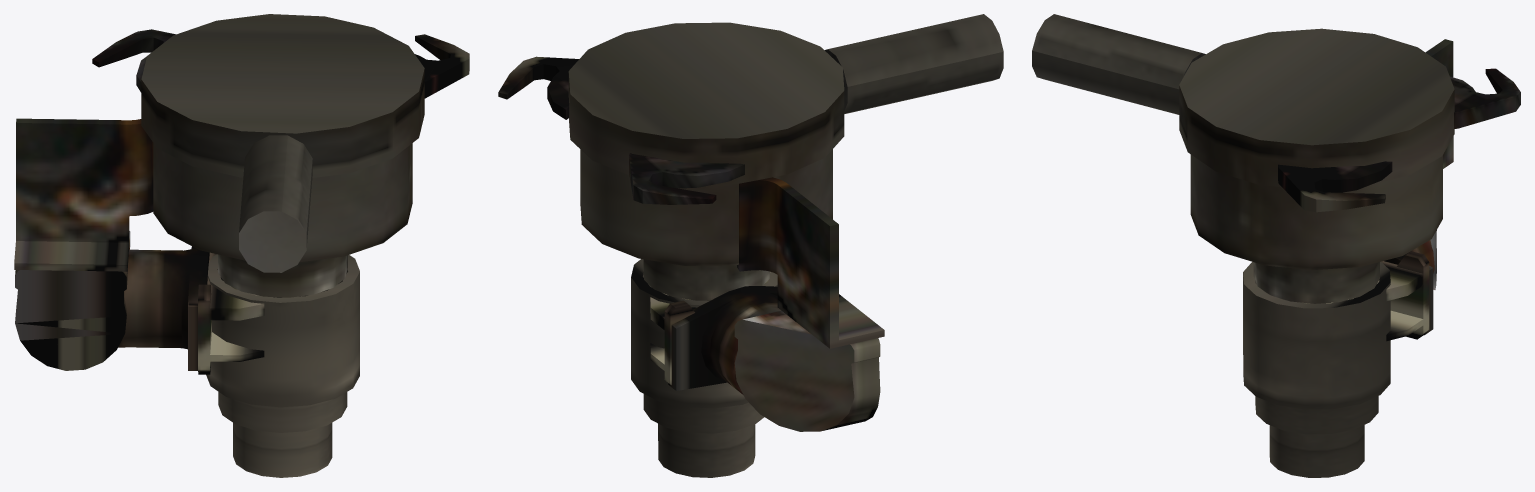
File: arm_04.dae
3 renders of one model, left to right at view 1: azimuth 30°, elevation 25°; view 2: azimuth 150°, elevation 25°; view 3: azimuth 270°, elevation 25°, orthographic. The views are drawn at different scales.
Parts seen in each view (by area): view 1: arm_04; view 2: arm_04; view 3: arm_04.
Part boxes in pixels (<box>): arm_04: <box>14,14,469,477</box>; arm_04: <box>498,14,1003,477</box>; arm_04: <box>1032,14,1520,477</box>.
Size of the model in its own units: 0.3245 by 0.3447 by 0.2888.
Materials: 2 (2 with a texture image).
